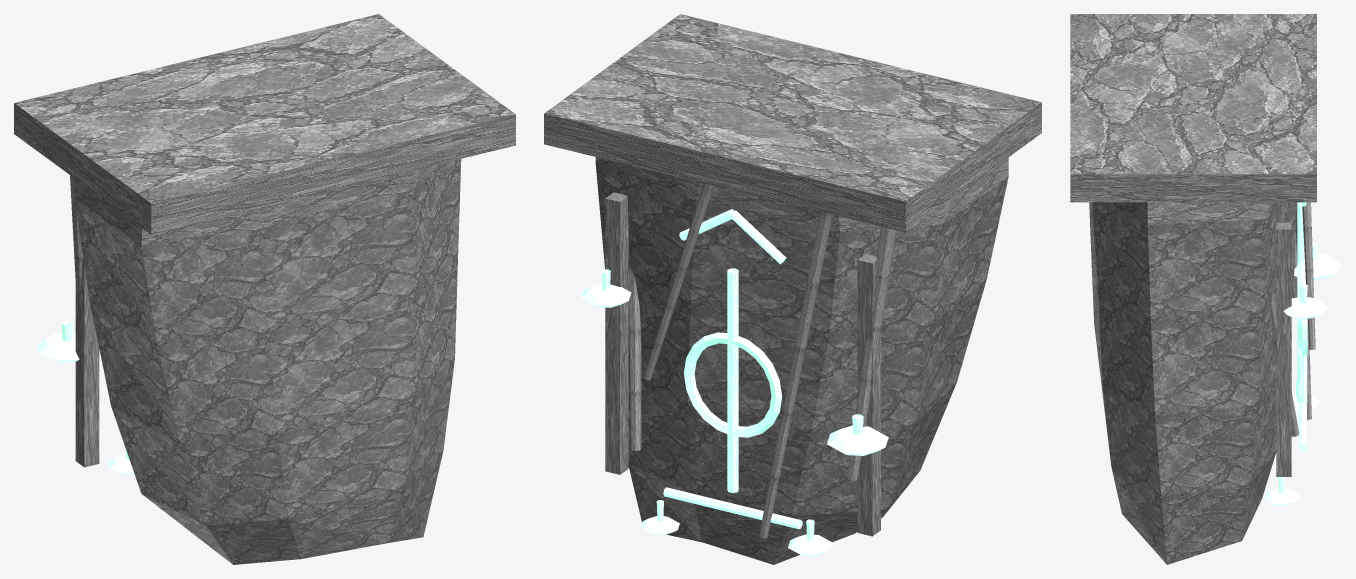
File: underworld-deepstone-bloom.glb
The picture shows the model from 3 angles, left to right: view 1: azimuth 30°, elevation 25°; view 2: azimuth 150°, elevation 25°; view 3: azimuth 270°, elevation 25°; orthographic projection. The views are drawn at different scales.
Parts seen in each view (by area): view 1: bloom-stone, bloom-detail-b, bloom-detail-a; view 2: bloom-stone, bloom-detail-a, bloom-rune, bloom-detail-b; view 3: bloom-stone, bloom-detail-b, bloom-detail-a, bloom-rune.
Part boxes in pixels (x1,y1,x2,y2): bloom-stone: (14, 14, 515, 564); bloom-detail-b: (36, 320, 134, 474); bloom-detail-a: (70, 175, 82, 296); bloom-stone: (544, 14, 1041, 564); bloom-detail-a: (628, 183, 896, 538); bloom-rune: (663, 209, 802, 529); bloom-detail-b: (581, 269, 888, 556); bloom-stone: (1070, 14, 1316, 564); bloom-detail-b: (1263, 242, 1341, 505); bloom-detail-a: (1271, 202, 1315, 436); bloom-rune: (1297, 202, 1307, 451).
Size of the model in its own units: 0.86 by 1.02 by 0.616.
4 materials, 4 textured.
